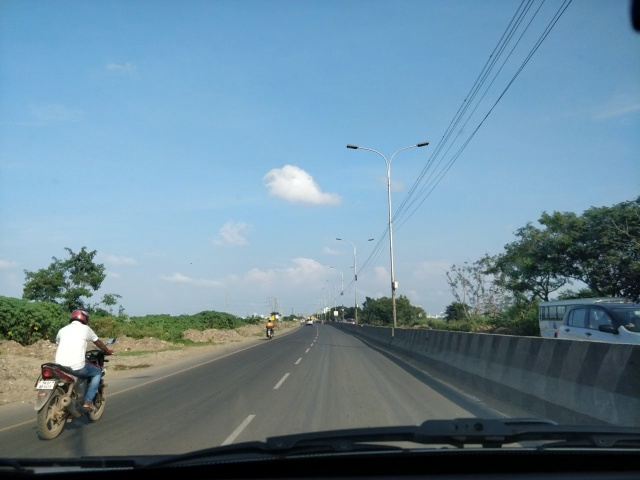bus: (537, 298, 564, 337)
car: (561, 306, 638, 342), (304, 315, 315, 328)
motorbike: (35, 308, 113, 438), (264, 321, 278, 344)
